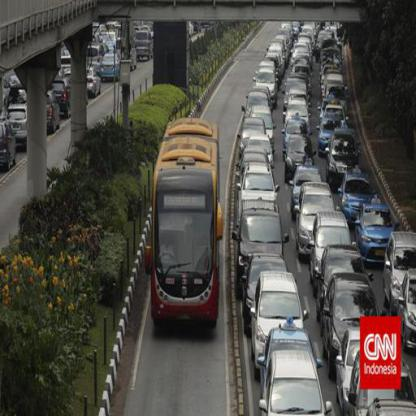bus: (144, 120, 226, 332)
car: (247, 273, 300, 356), (262, 351, 325, 415), (323, 272, 370, 346), (308, 208, 353, 277), (239, 204, 281, 270)
